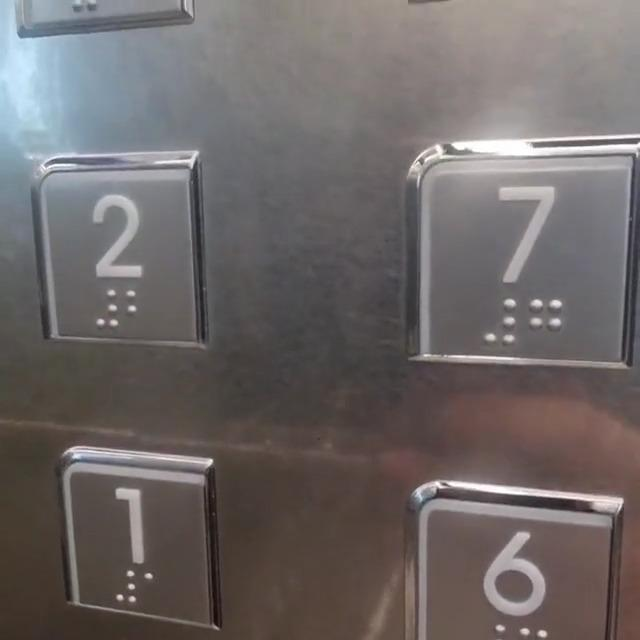button: (391, 139, 637, 366), (25, 143, 212, 348), (408, 494, 618, 640), (50, 458, 218, 633)
